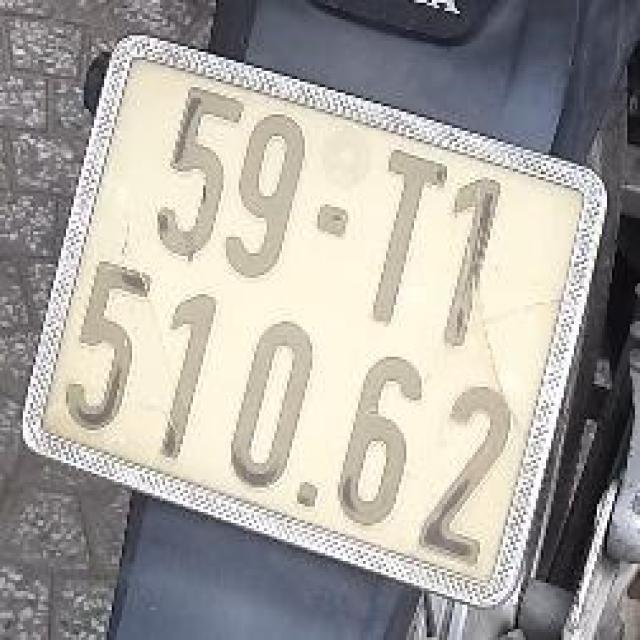0: (207, 295, 338, 520)
1: (425, 150, 536, 372), (134, 272, 245, 482)
2: (394, 366, 530, 577)
5: (136, 61, 263, 277), (52, 245, 171, 442)
6: (319, 339, 442, 548)
9: (210, 96, 332, 307)
T: (350, 128, 475, 338)
